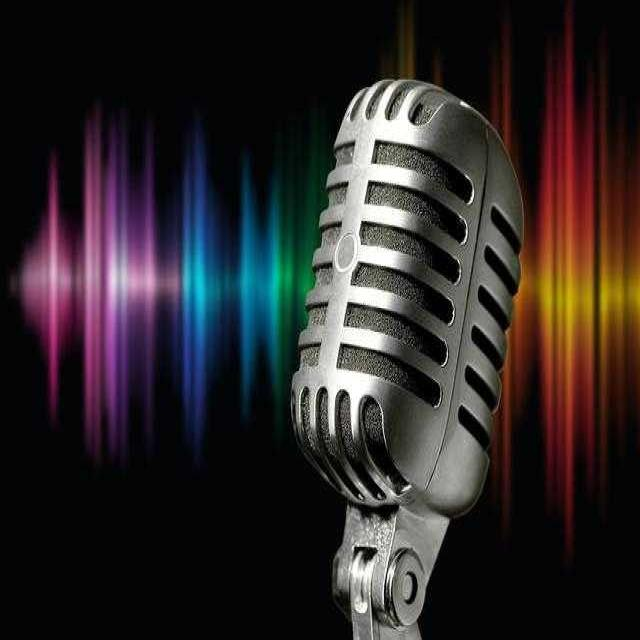microphone: (287, 83, 518, 636)
